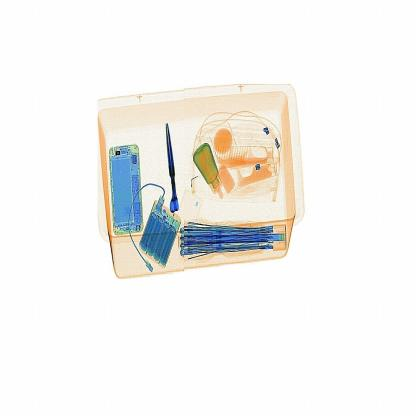gun: (153, 113, 188, 214)
